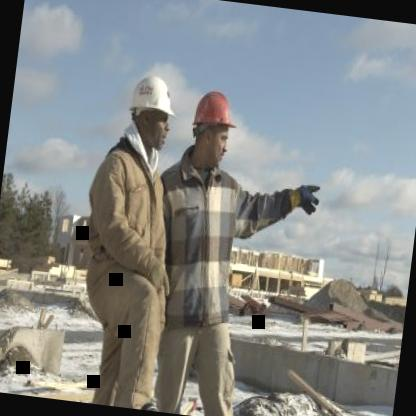helmet: (180, 80, 245, 176), (122, 66, 181, 156)
